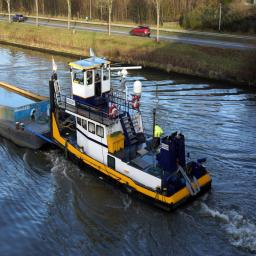tugboat: (49, 47, 215, 218)
